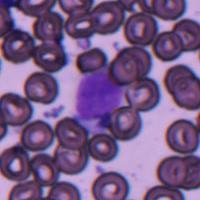L: (74, 68, 124, 127)
